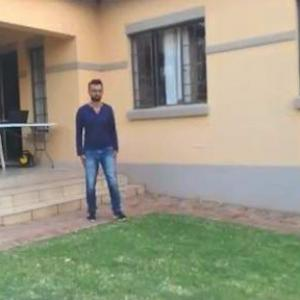follow: (75, 71, 121, 231)
